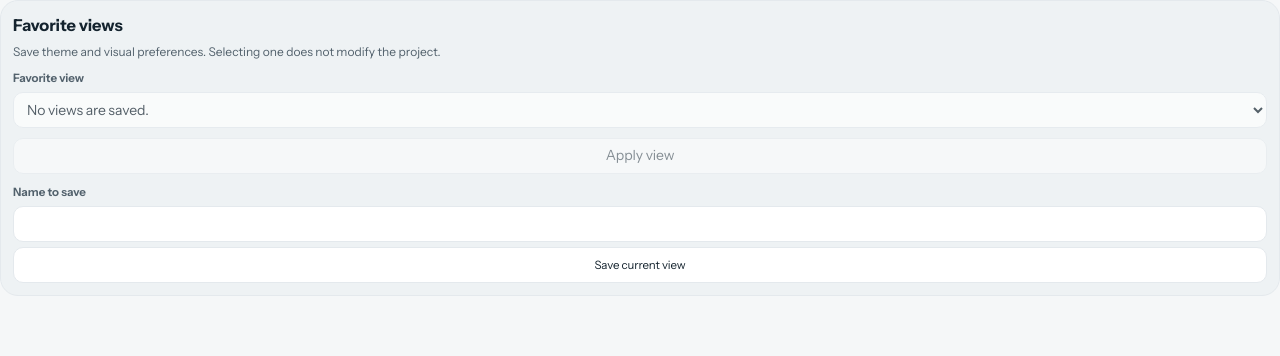
Test: ViewFavoritesPanel › saves an isolated snapshot of the current view without applying it
Type "Dark review" into the field labelled "Name to save" at (640, 224), box [13,206,1267,242]
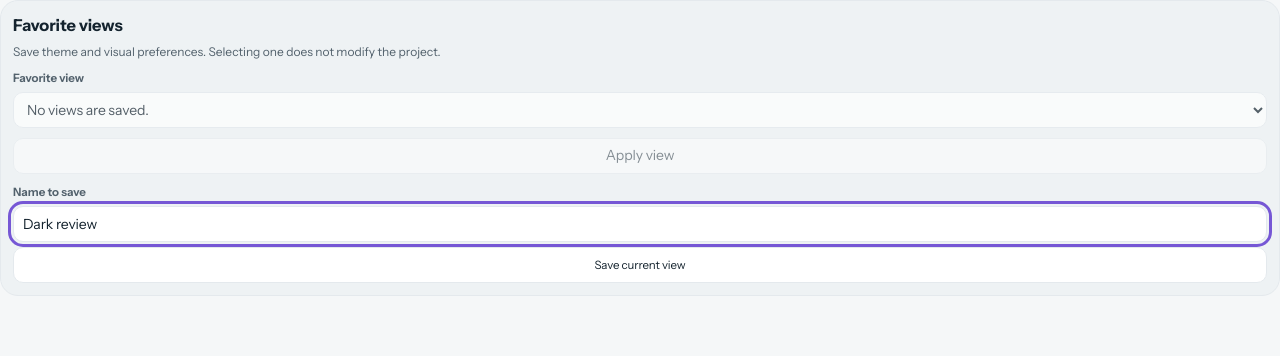
Click the button "Save current view" at (640, 266), box [13,248,1267,284]
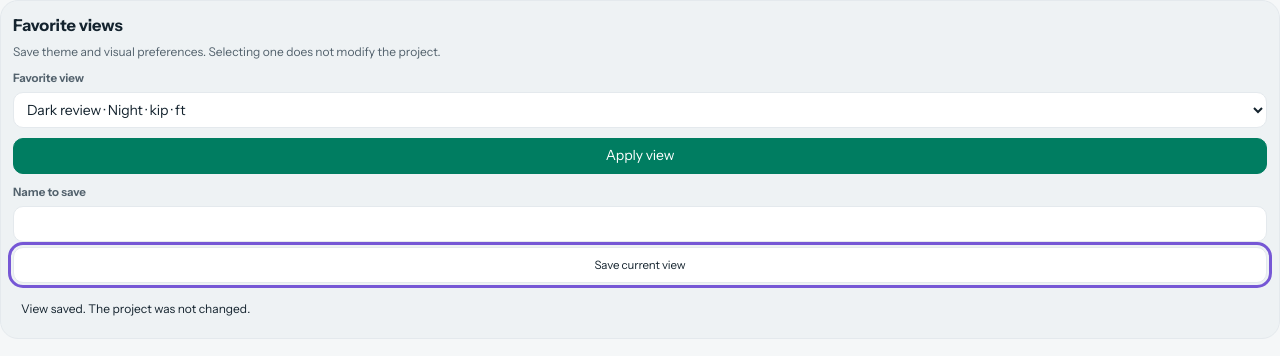
Expected: the message shows "saved", [21,302,250,316]
